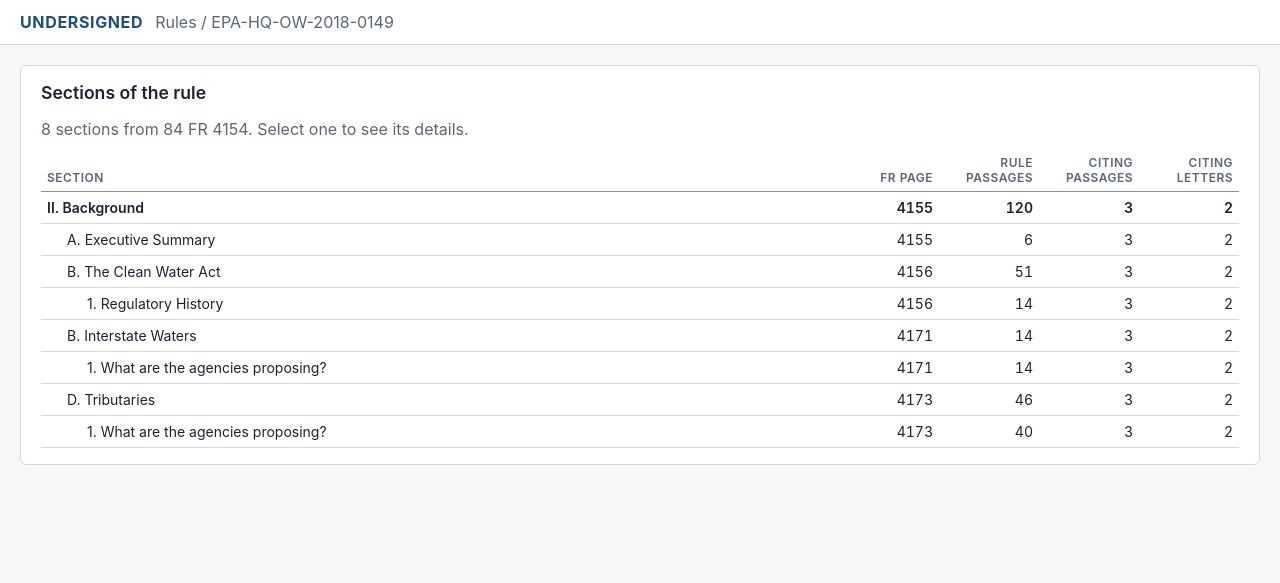
Test: lists the comment passages that cite a section, with links to their letters
Expected: the table is shown, [41,155,1239,448]
Click the button "D. Tributaries": [111, 400] box [67,391,155,408]
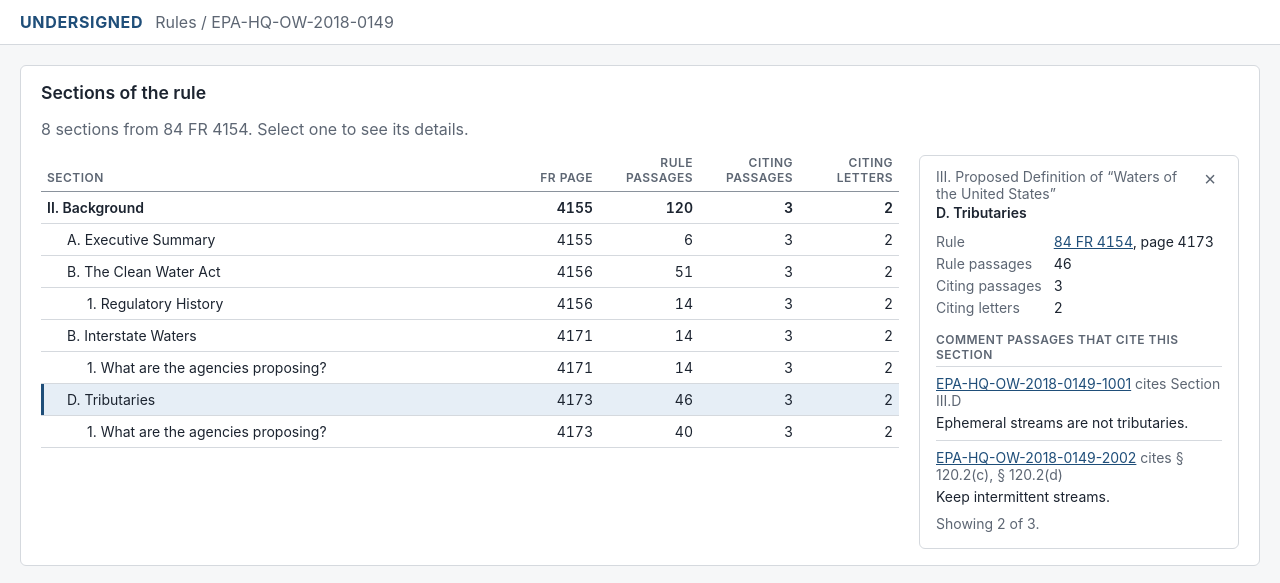
Expected: the text "Ephemeral streams are not tributaries." is shown, [936,413,1222,432]
Expected: the text "cites § 120.2(c), § 120.2(d)" is shown, [936,449,1184,483]
Expected: the text "Showing 2 of 3." is shown, [936,515,1039,532]
